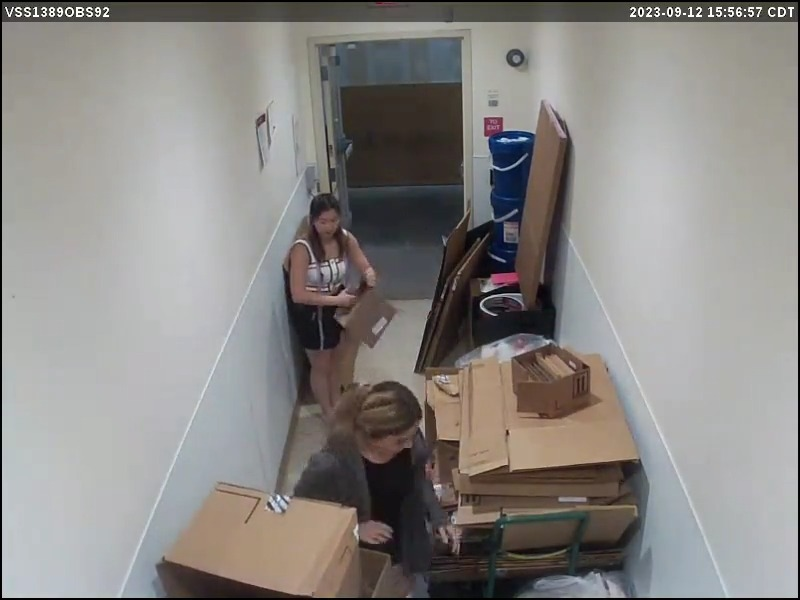No-gloves: (354, 507, 403, 557), (433, 509, 465, 562), (331, 284, 362, 312), (358, 259, 385, 291)
